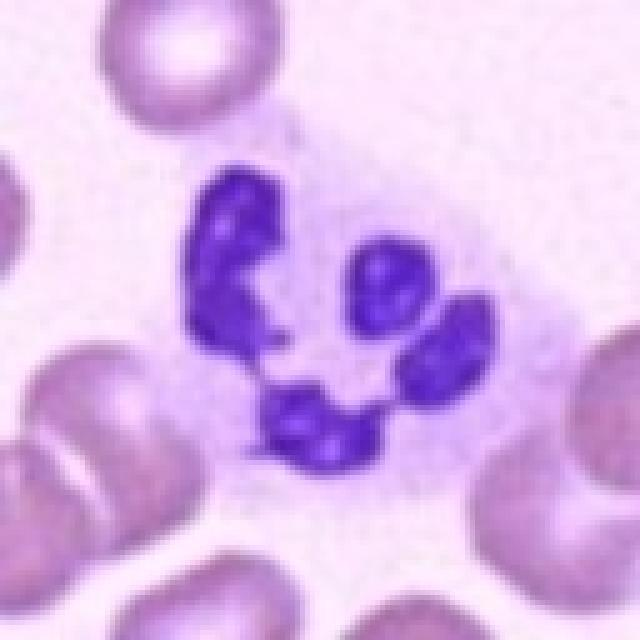neutro: (76, 140, 522, 505)
